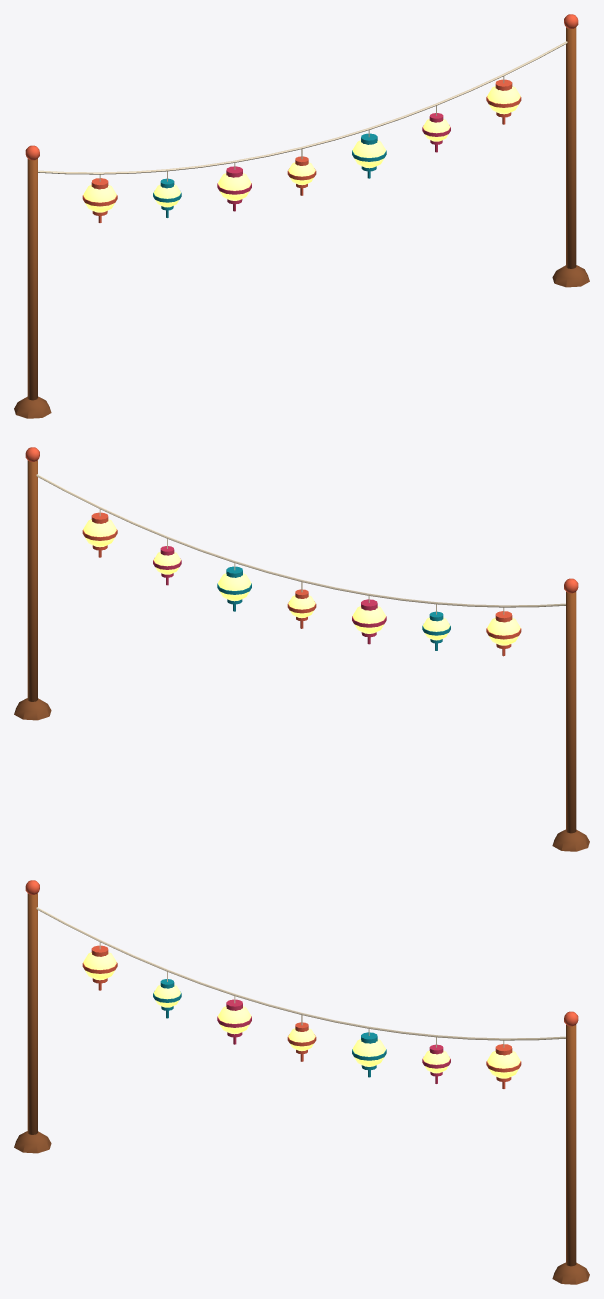
The model's file is lantern_string.glb.
The picture shows the model from 3 angles, top to bottom: view 1: azimuth 30°, elevation 25°; view 2: azimuth 150°, elevation 25°; view 3: azimuth 330°, elevation 25°; orthographic projection.
Parts seen in each view (by area): view 1: lantern_string; view 2: lantern_string; view 3: lantern_string.
Part boxes in pixels (x1,y1,x2,y2): lantern_string: (14,14,589,418); lantern_string: (14,447,589,851); lantern_string: (14,880,589,1284).
Bounding box in the file's own units: 8.5 × 3.76 × 0.5002.
